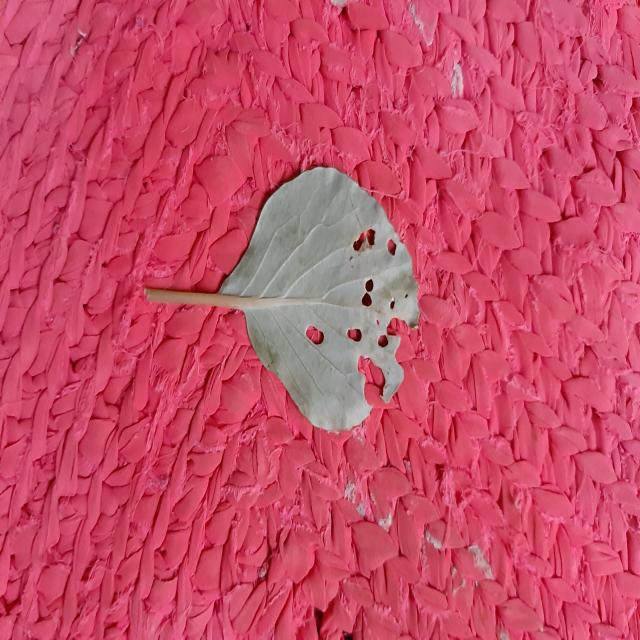Kohlrabi: (145, 167, 419, 431)
